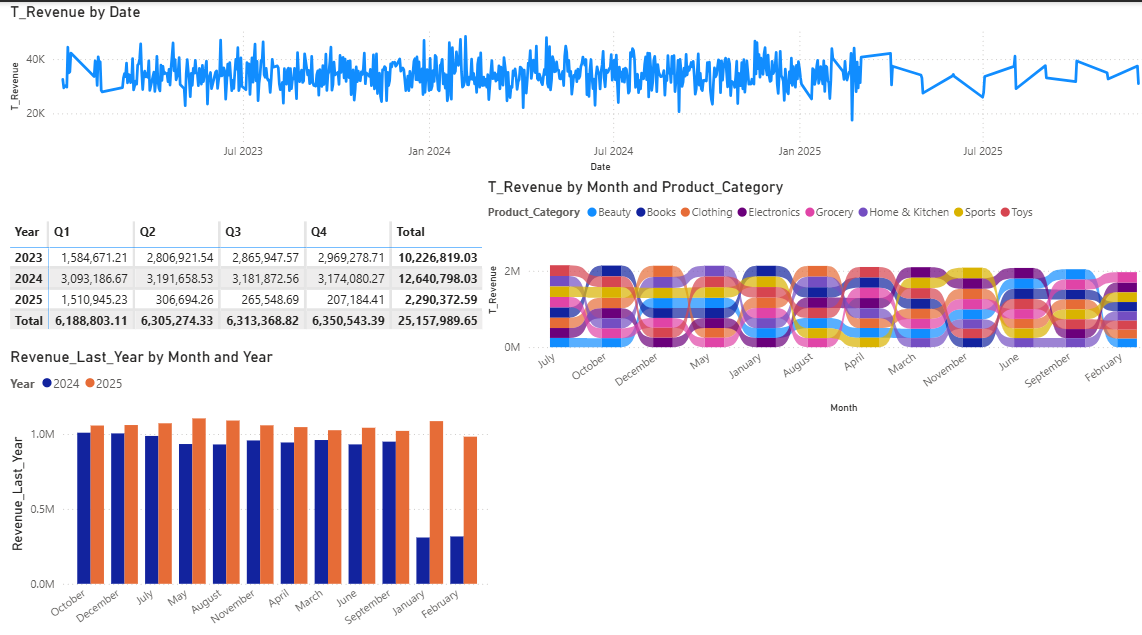

The page's visual inventory and layout, read from the dashboard file:
{"tool":"powerbi","page":{"name":"Page 5","canvas":[1280,720],"ordinal":4},"visuals":[{"type":"lineChart","fields":{"Category":["Date_Table.Date"],"Y":["Date_Table.T_Revenue"]},"box":[9.6,0,1270.7,192.1],"z":0},{"type":"pivotTable","fields":{"Rows":["Date_Table.Year"],"Columns":["Date_Table.Quarter"],"Values":["Date_Table.T_Revenue"]},"box":[9.6,236,537.9,142.7],"z":1},{"type":"clusteredColumnChart","fields":{"Category":["Date_Table.Month"],"Series":["Date_Table.Year"],"Y":["Date_Table.Revenue_Last_Year"]},"box":[9.6,378.7,537.9,341.7],"z":2},{"type":"ribbonChart","fields":{"Category":["Date_Table.Month"],"Series":["cleaned_ecommerce_data.Product_Category"],"Y":["Date_Table.T_Revenue"]},"box":[533.8,192.1,746.5,264.8],"z":3}]}

Visuals, with their boxes in screenshot pixels (x1, y1, x2, y2), scaled from the page's 1280x720 canvas onto the 1142x635 screenshot:
lineChart - Date_Table.Date x Date_Table.T_Revenue: 9,0,1141,169
pivotTable - Date_Table.Year x Date_Table.Quarter: 9,208,488,334
clusteredColumnChart - Date_Table.Month x Date_Table.Year: 9,334,488,634
ribbonChart - Date_Table.Month x cleaned_ecommerce_data.Product_Category: 476,169,1141,403
